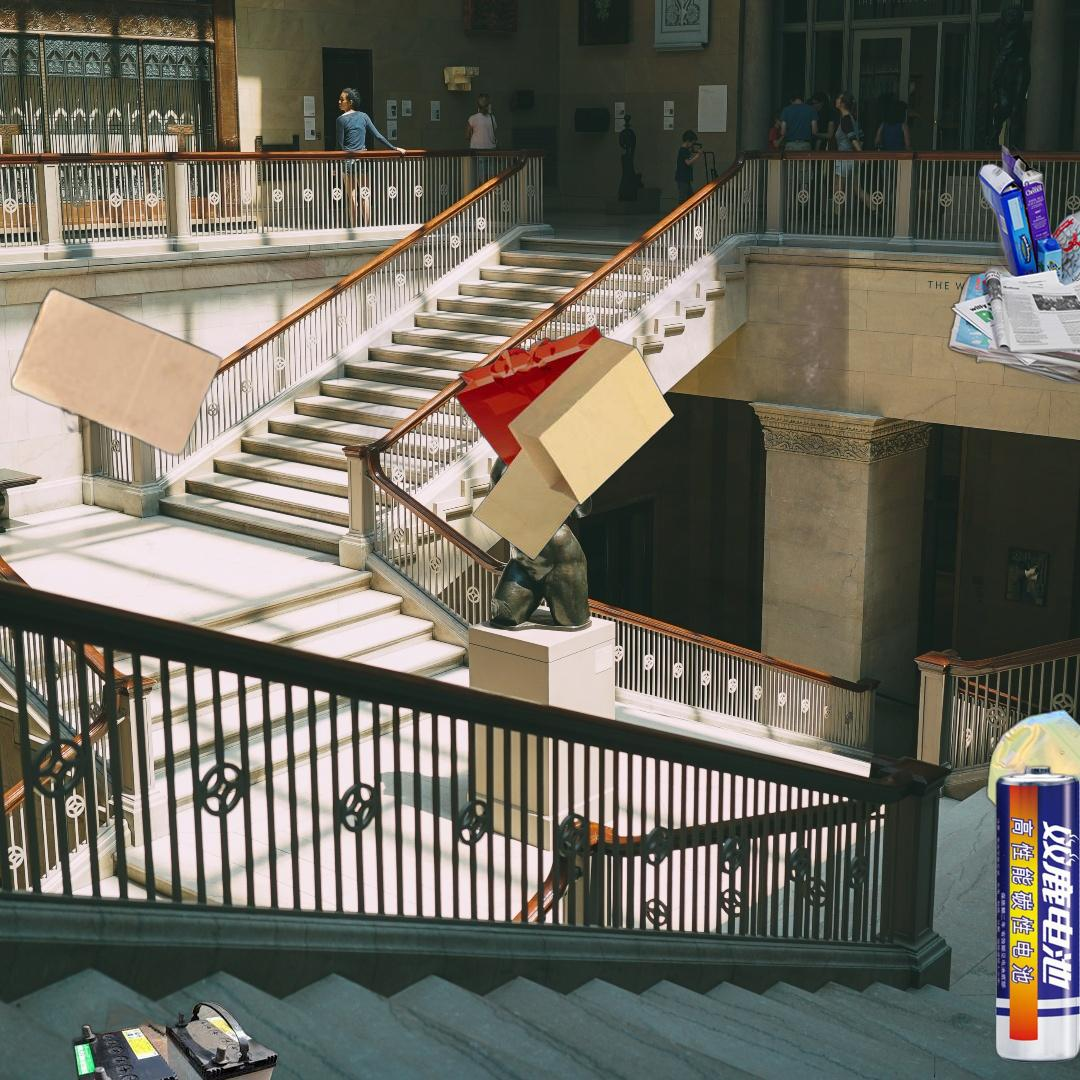battery: (992, 764, 1080, 1067), (50, 996, 282, 1080)
metal-cans: (983, 704, 1080, 842)
paper-bag: (452, 323, 677, 563), (9, 285, 225, 458)
trashbox-cardboard: (337, 244, 849, 628), (864, 139, 1080, 461), (934, 797, 1080, 1077)
